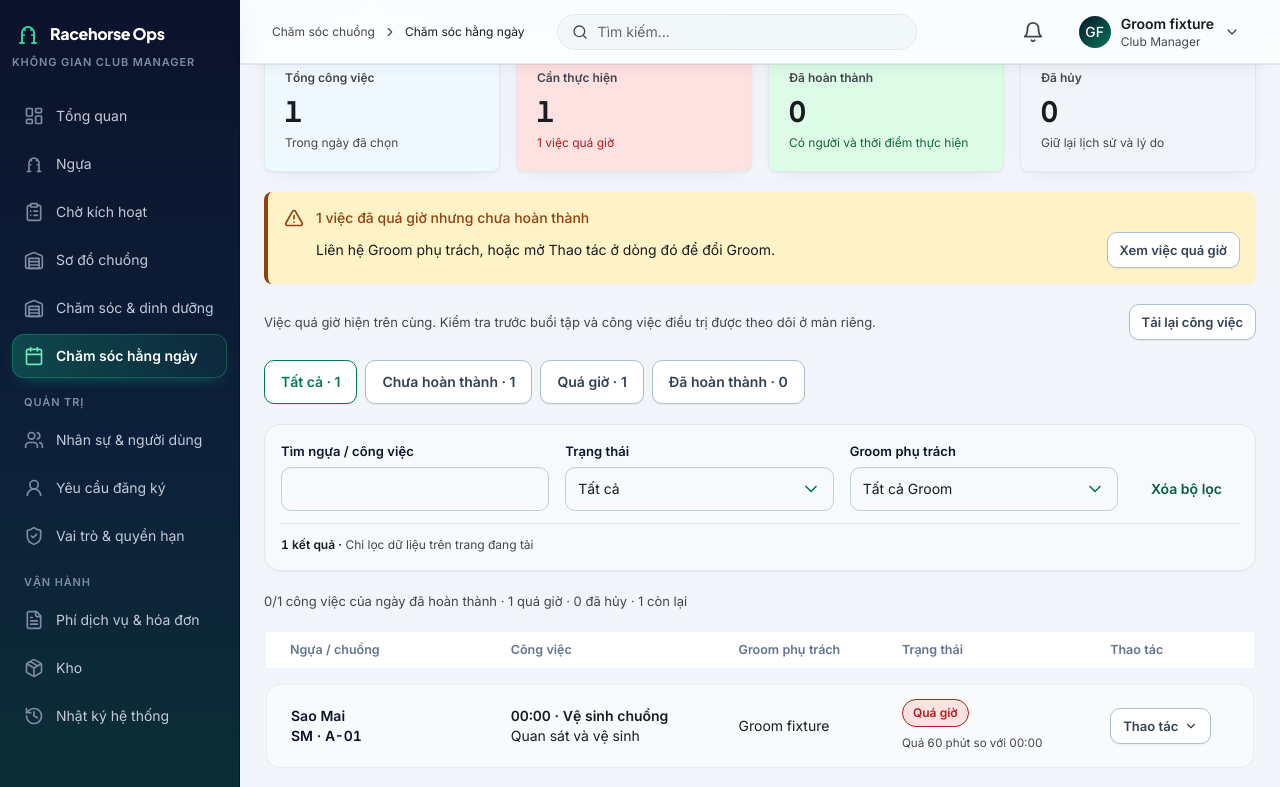
Test case: Flow 4 API-only UI › groups task actions by horse and requires explicit confirmation before cancellation
The width and height of the screenshot is (1280, 787).
(page scrolled)
Expected: the button "Hủy công việc" is not shown
Click the button "Thao tác": (1161, 726) 1110,708 -> 1211,744
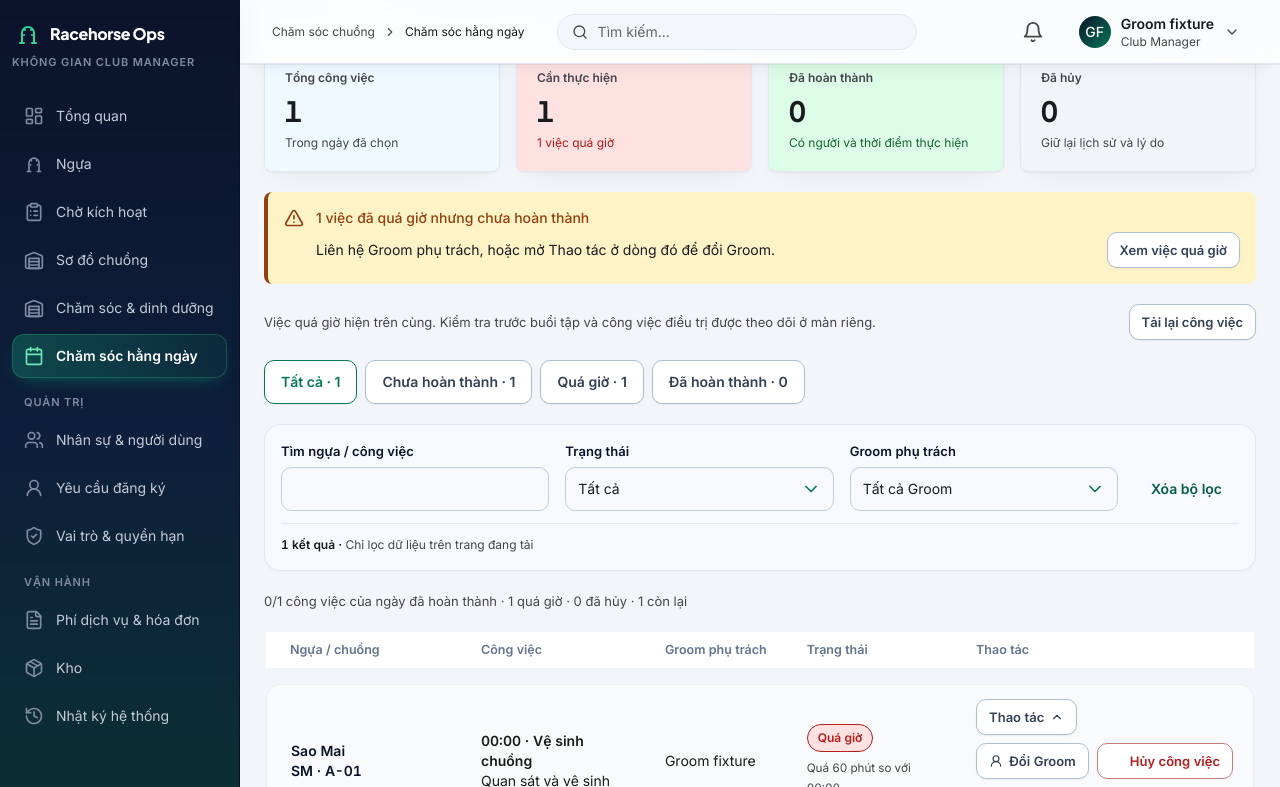
Expected: the button "Đổi Groom" is enabled, 976,743 -> 1089,779
Click the button "Hủy công việc": (1165, 761) 1097,743 -> 1233,779
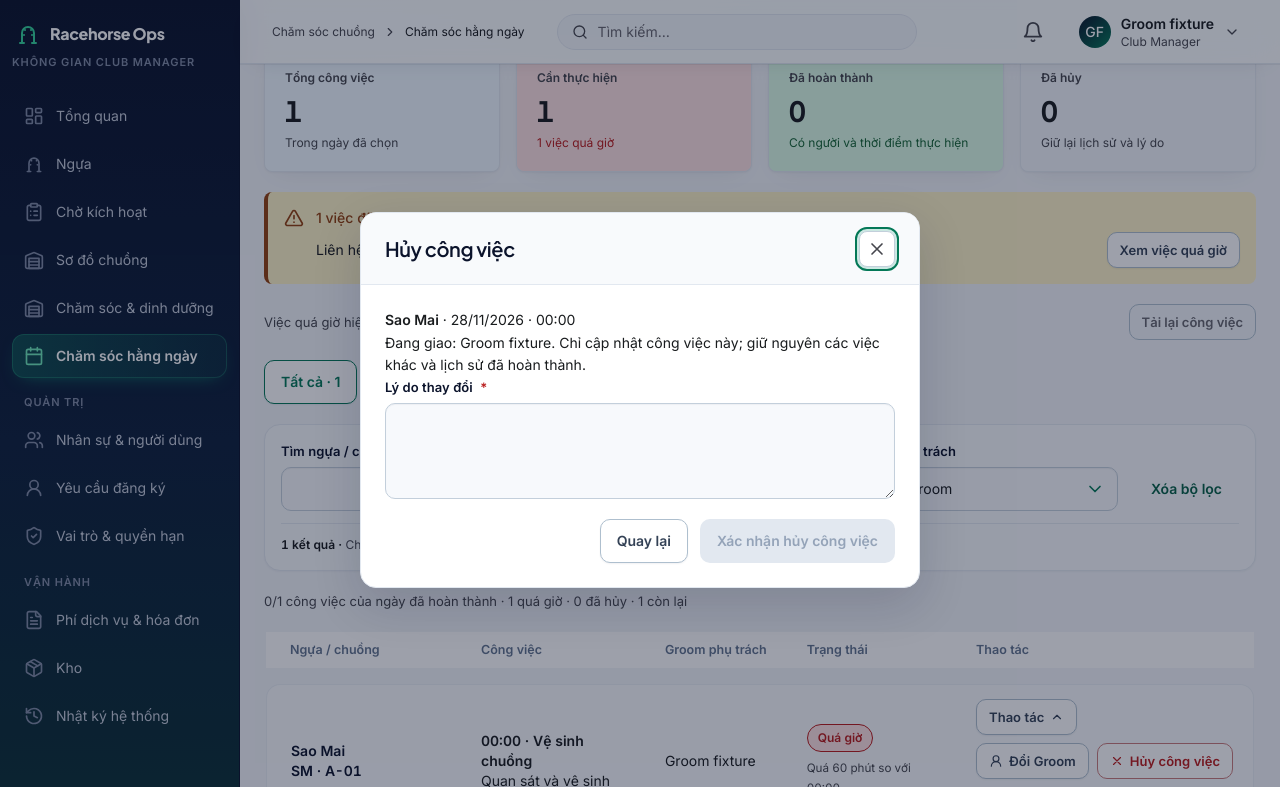
Expected: the button "Xác nhận hủy công việc" is disabled, 700,519 -> 895,563
Click the button "Quay lại": (644, 541) 600,519 -> 688,563
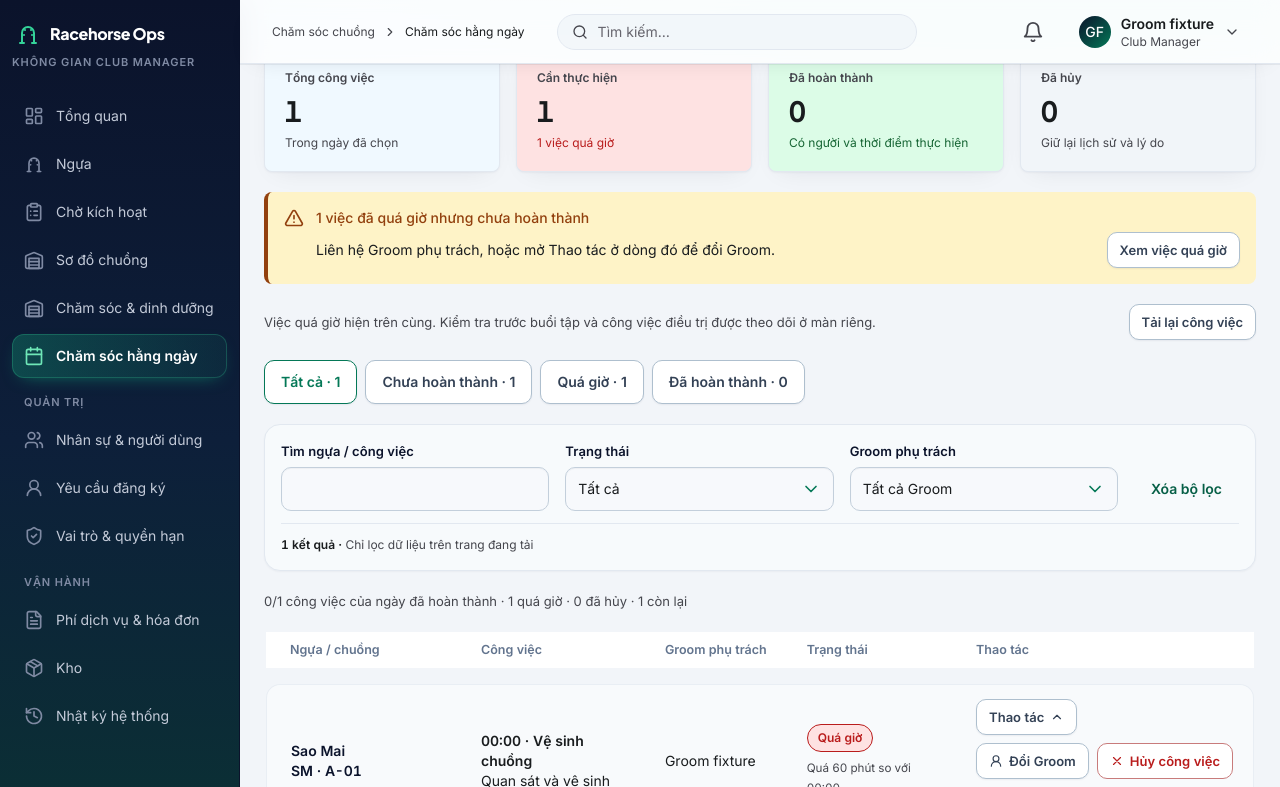
Expected: the dialog is gone
